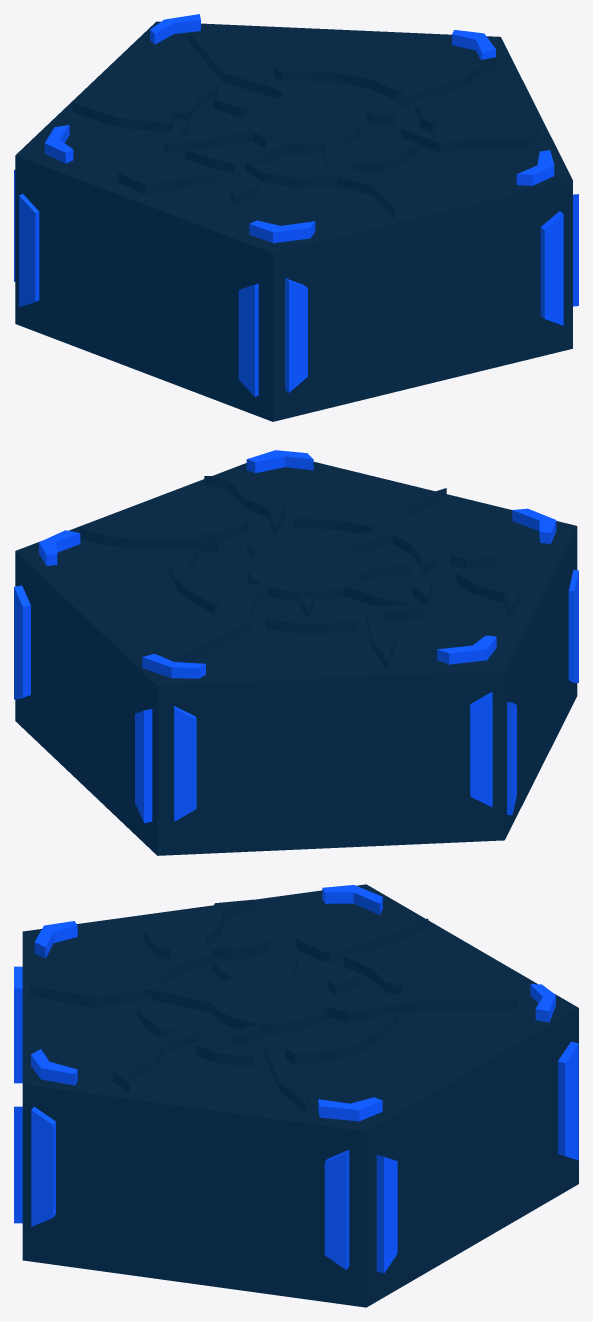
Rendered from Star.fbx.
The picture shows the model from 3 angles, top to bottom: view 1: azimuth 30°, elevation 25°; view 2: azimuth 150°, elevation 25°; view 3: azimuth 270°, elevation 25°; orthographic projection. The views are drawn at different scales.
Parts seen in each view (by area): view 1: NGon010; view 2: NGon010; view 3: NGon010.
Boxes of the visible parts, bbox=[...] form: NGon010: bbox=[14, 14, 578, 421]; NGon010: bbox=[14, 450, 578, 855]; NGon010: bbox=[14, 884, 578, 1307].
Size of the model in its own units: 1.06 by 0.3725 by 1.02.
